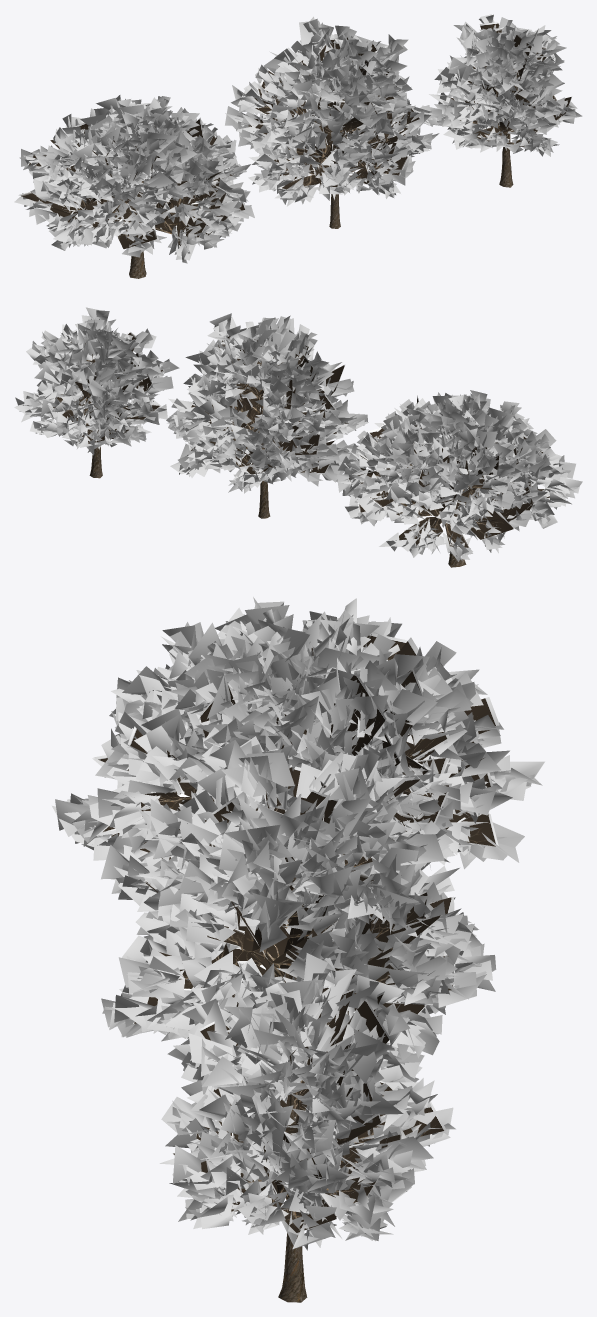
Rendered from Sketchfab_2022_09_21_06_15_37.fbx.
3 views of the same model, one above another, from view 1: azimuth 30°, elevation 25°; view 2: azimuth 150°, elevation 25°; view 3: azimuth 270°, elevation 25° (orthographic). The views are drawn at different scales.
Visible parts, largest first — view 1: Leaf_6, Bark_9; view 2: Leaf_6, Bark_9; view 3: Leaf_6, Bark_9.
Boxes of the visible parts, x1,y1,x2,y2 form: Leaf_6: (14,14,582,263); Bark_9: (117,78,521,278); Leaf_6: (14,307,582,561); Bark_9: (87,361,532,567); Leaf_6: (52,597,544,1250); Bark_9: (182,758,394,1302).
Bounding box in the file's own units: 21643 × 7535 × 8751.
